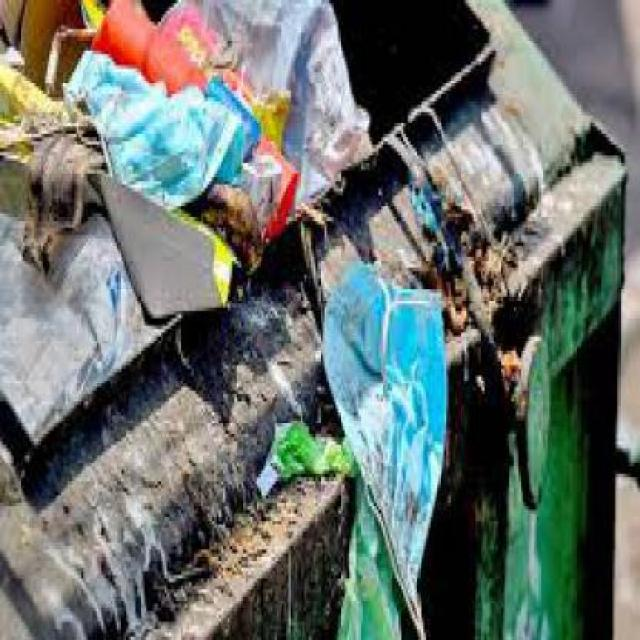B3: (316, 242, 456, 636), (63, 43, 243, 217)
